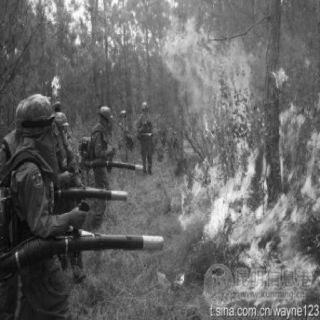Fire: (157, 12, 315, 302)
